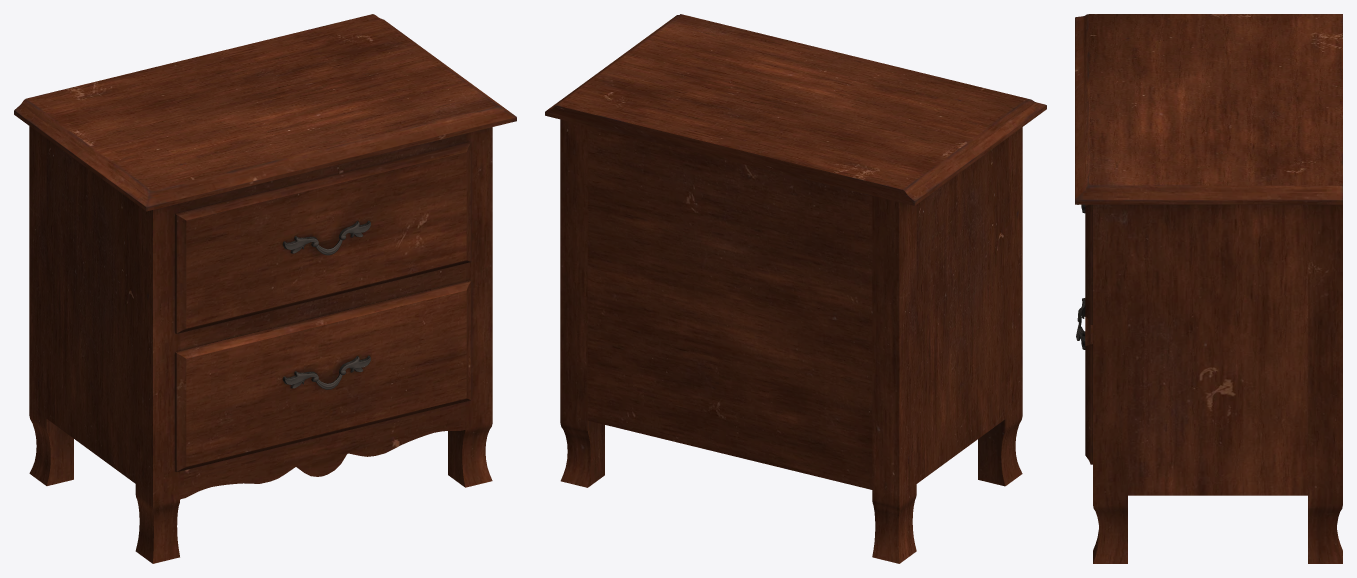
File: wooden_side_table.glb
3 renders of one model, left to right at view 1: azimuth 30°, elevation 25°; view 2: azimuth 150°, elevation 25°; view 3: azimuth 270°, elevation 25°, orthographic.
Parts seen in each view (by area): view 1: Object_3, Object_2; view 2: Object_3; view 3: Object_3, Object_2.
Part boxes in pixels (x1=…): Object_3: x1=14, y1=14, x2=516, y2=563; Object_2: x1=282, y1=220, x2=370, y2=389; Object_3: x1=545, y1=14, x2=1046, y2=563; Object_3: x1=1075, y1=14, x2=1342, y2=563; Object_2: x1=1076, y1=204, x2=1085, y2=349.
Bounding box in the file's own units: 0.7149 × 0.6929 × 0.4422.
Materials: 2 (2 with a texture image).
